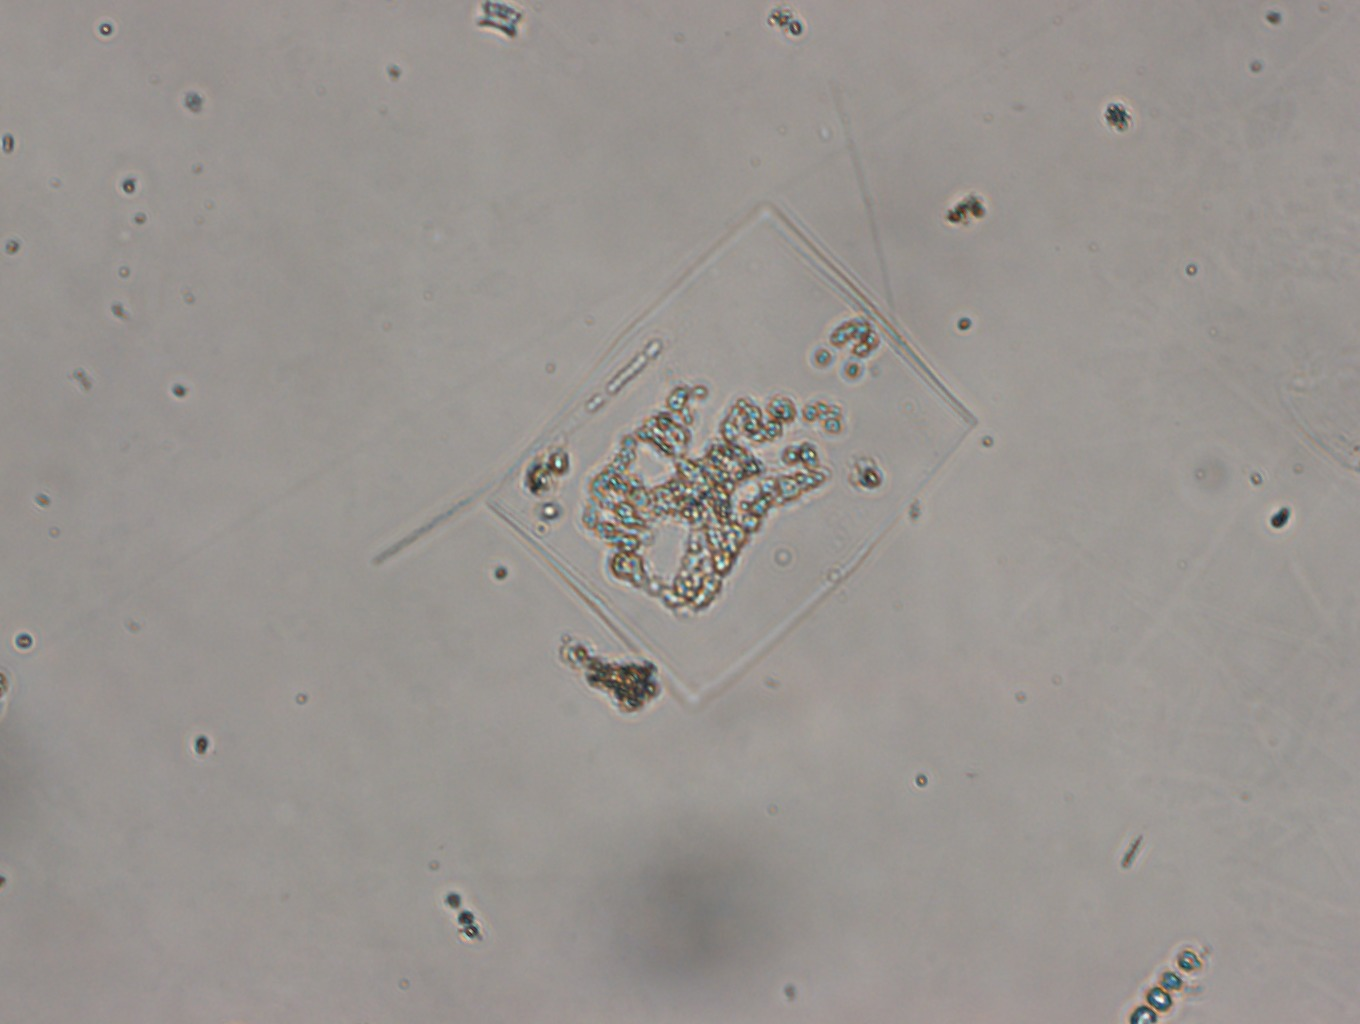helicotheca: (483, 200, 979, 710)
